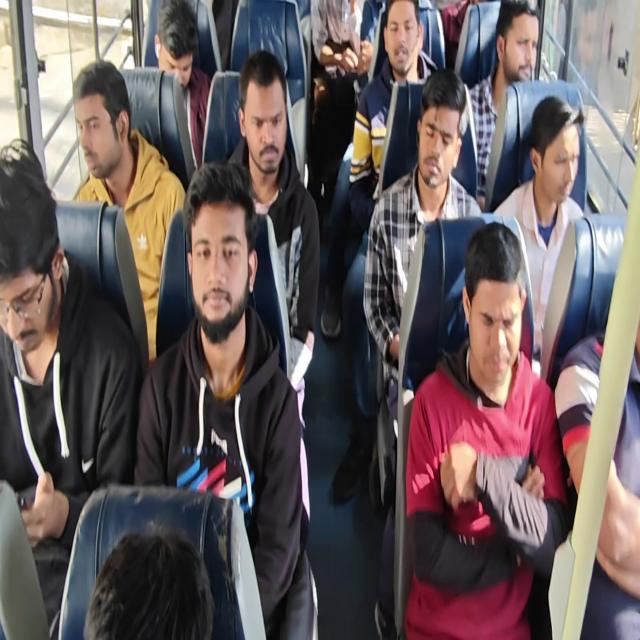person: (87, 515, 212, 640), (1, 137, 66, 363), (171, 166, 258, 334), (461, 230, 525, 378), (238, 43, 302, 187), (65, 70, 133, 182), (408, 71, 468, 196), (528, 94, 586, 208), (149, 2, 205, 94), (494, 2, 547, 86), (388, 0, 424, 79)
